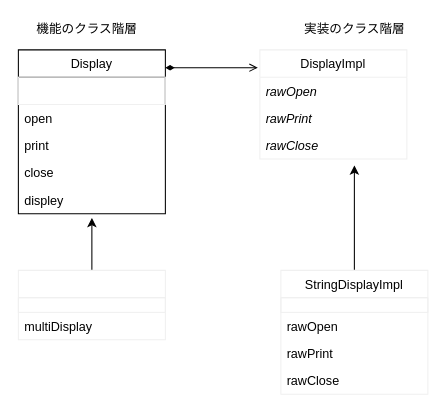
Some shapes in this 446 by 415 pixel diagram are drawn without their labels. Each missing label, with the box of its shape:
CountDisplay: (17, 269, 165, 340)
impl: (17, 76, 165, 104)
